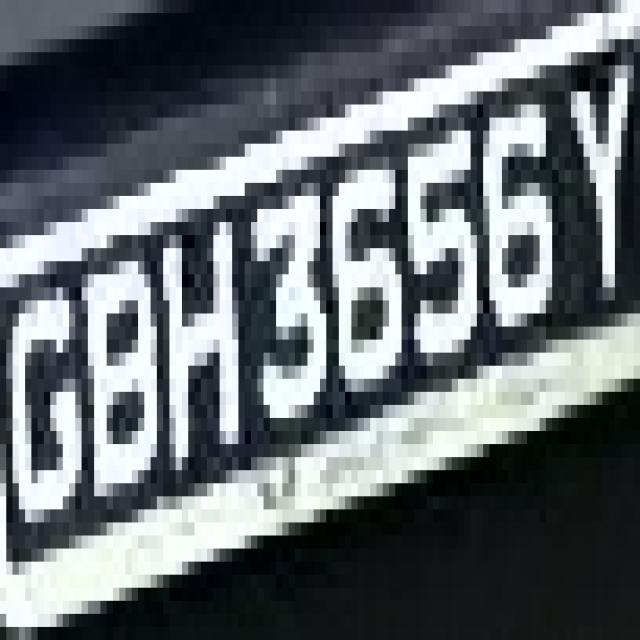3: (245, 144, 320, 457)
5: (389, 117, 483, 405)
6: (308, 117, 402, 405), (477, 104, 558, 366)
B: (81, 183, 157, 522)
G: (0, 248, 82, 575)
H: (151, 196, 251, 509)
Y: (564, 26, 640, 300)
